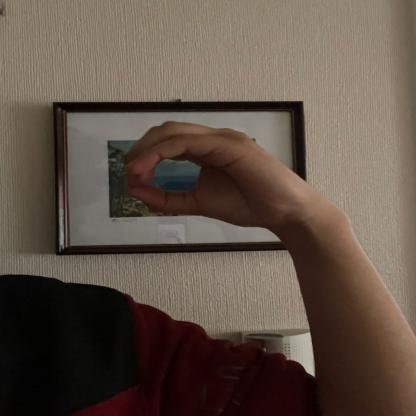O: (117, 114, 297, 240)
